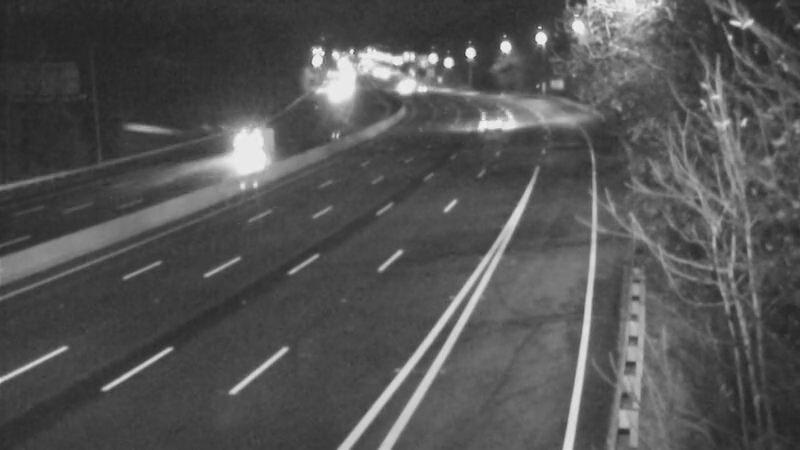vehicle: (383, 56, 433, 106), (400, 62, 450, 112), (382, 66, 432, 116), (464, 98, 514, 148), (218, 118, 268, 168)
